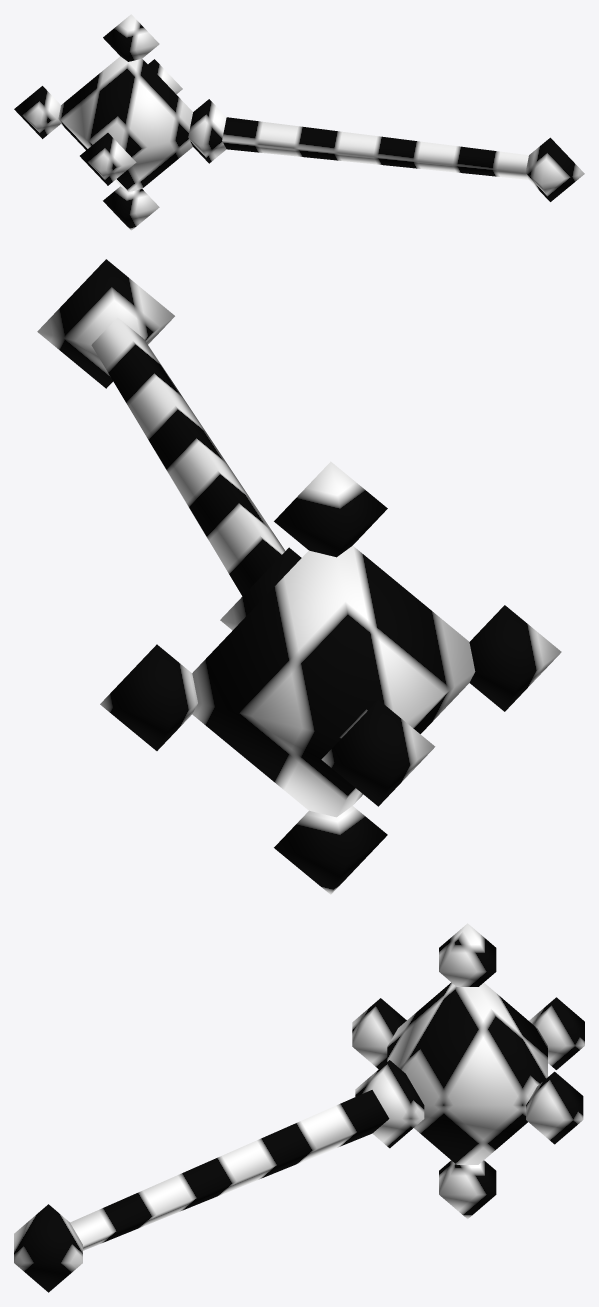
The model's file is initwehm8.dae.
The picture shows the model from 3 angles, top to bottom: view 1: azimuth 30°, elevation 25°; view 2: azimuth 150°, elevation 25°; view 3: azimuth 270°, elevation 25°; orthographic projection. The views are drawn at different scales.
Parts seen in each view (by area): view 1: weapon; view 2: weapon; view 3: weapon.
Boxes of the visible parts, <box> form: weapon: <box>14,14,584,230</box>; weapon: <box>37,259,561,894</box>; weapon: <box>14,923,584,1292</box>.
Bounding box in the file's own units: 2.12 × 2.12 × 1.21.
1 material, 1 textured.
